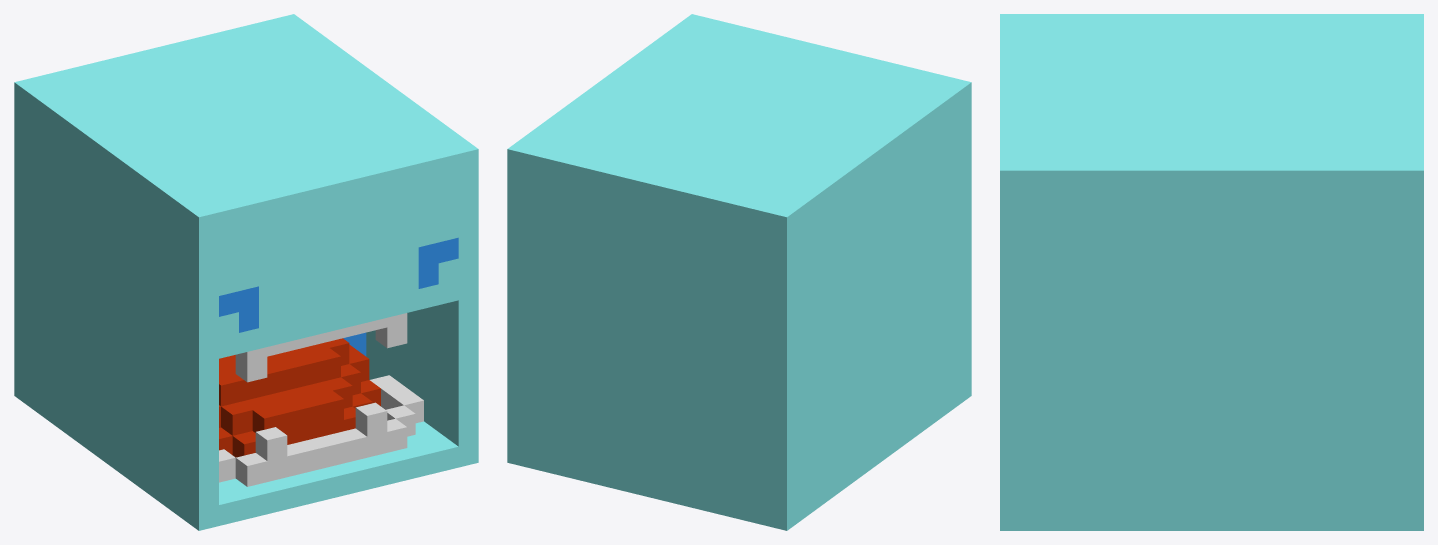
Rendered from iceAnim.obj.
3 renders of one model, left to right at view 1: azimuth 30°, elevation 25°; view 2: azimuth 150°, elevation 25°; view 3: azimuth 270°, elevation 25°, orthographic. The views are drawn at different scales.
Bounding box in the file's own units: 14 × 15 × 16.
Materials: 1 (1 with a texture image).
